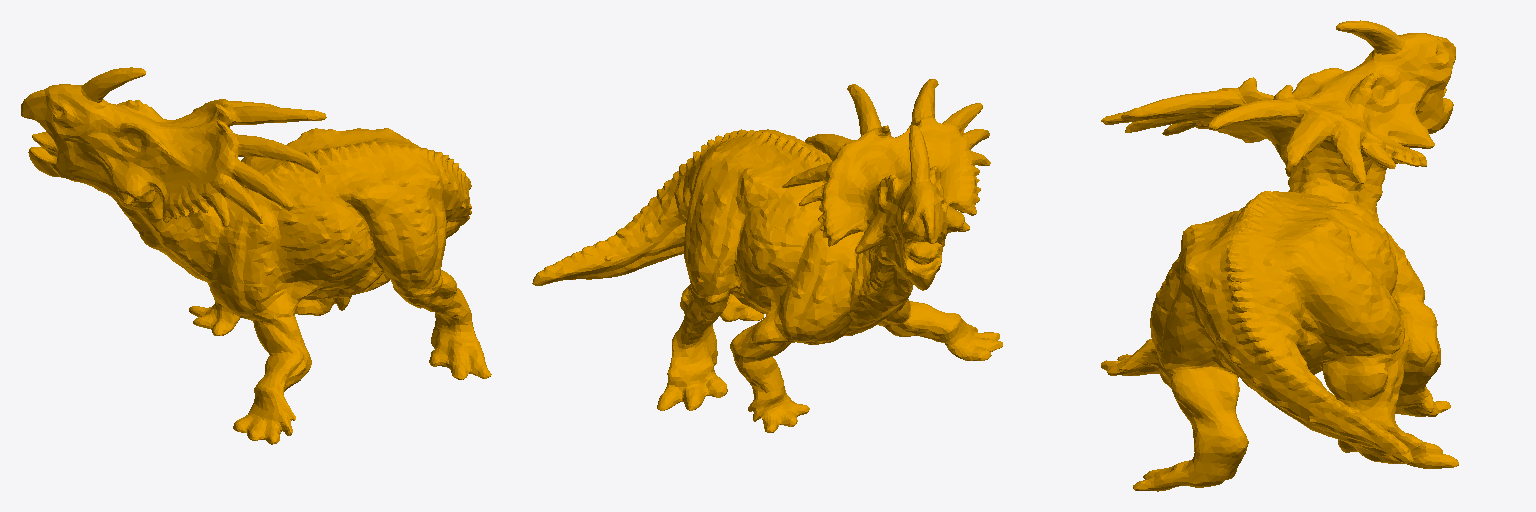
robot.urdf — 2s7uzs0i:
<?xml version='1.0'?>

<robot name="2s7uzs0i">
    <static>false</static>
    <link name="link">
        <inertial>
            <mass value="0.052396888227036836"/>
            <inertia ixx="2.656305244433739e-05" ixy="7.718308720330085e-06" ixz="9.036326296975977e-06"
                     iyy="4.7101963159418874e-05" iyz="-1.665997823042805e-06" izz="4.678809118984133e-05"/>
        </inertial>
        <collision name="collision">
            <geometry>
                <mesh filename="package://miscnet/train/2s7uzs0i/collision_model_vhacd.obj"/>
            </geometry>
        </collision>
        <visual name="visual">
            <geometry>
                <mesh filename="package://miscnet/train/2s7uzs0i/visual_model.obj"/>
            </geometry>
        </visual>
    </link>
</robot>

--- What the picture shows (computed from the rendered views, not written in the file) ---
Views: 3 orthographic renders of the robot side by side, from view 1: azimuth 30°, elevation 25°; view 2: azimuth 150°, elevation 25°; view 3: azimuth 270°, elevation 25°.
Robot: 2s7uzs0i — 1 links, 0 joints (none); root link link; default pose: every joint at zero.
Links seen in each view (by area): view 1: link; view 2: link; view 3: link.
Boxes of the visible links, left/top/right/bottom form: link: left=21, top=67, right=491, bottom=444; link: left=532, top=79, right=1002, bottom=432; link: left=1101, top=20, right=1458, bottom=491.
Size in the robot's own frame: 0.1334 by 0.0881 by 0.0904 metres.
1 mesh visuals loaded from 1 distinct referenced files (1 OBJ).
